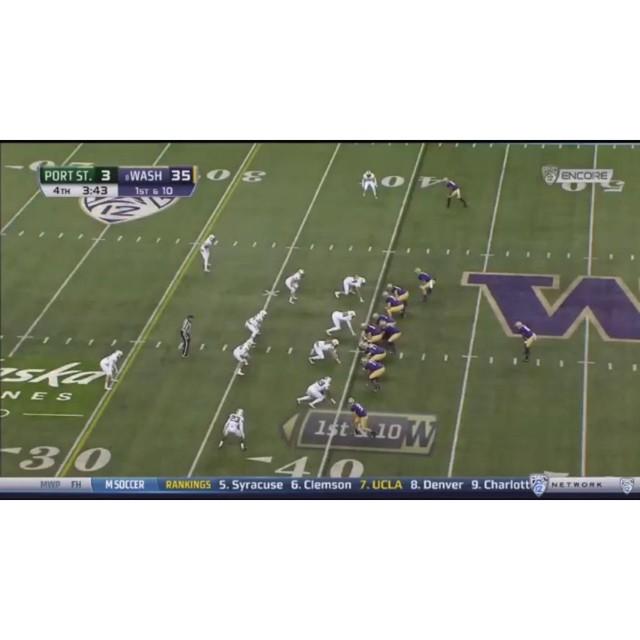american-football-player: (296, 375, 334, 408), (218, 408, 247, 451), (347, 397, 374, 438), (513, 320, 537, 362), (232, 336, 257, 376), (100, 350, 124, 390), (334, 276, 367, 303), (308, 338, 341, 365), (379, 321, 403, 357), (360, 357, 384, 392), (414, 267, 437, 302), (284, 268, 306, 304), (326, 312, 356, 338), (443, 178, 467, 210), (245, 309, 268, 341), (200, 234, 218, 273), (360, 341, 387, 364), (383, 292, 406, 318), (360, 170, 379, 200), (385, 282, 410, 304), (360, 322, 382, 344)
referee: (178, 313, 195, 357)
